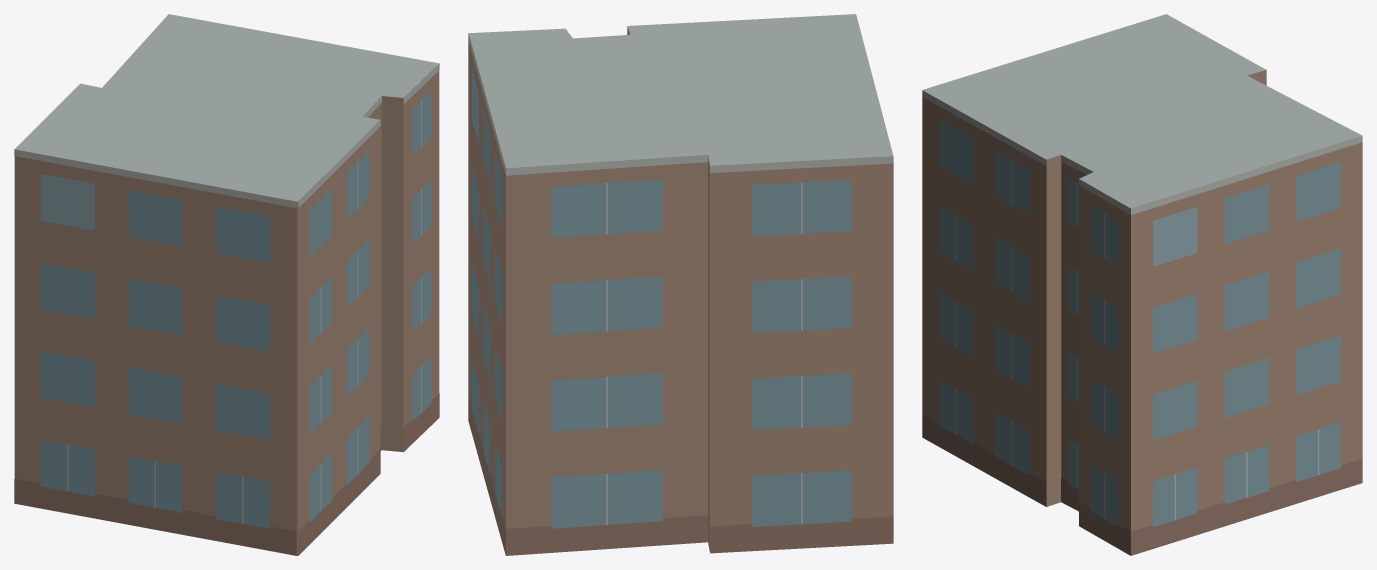
Rendered from survey-upis-32758069.glb.
3 renders of one model, left to right at view 1: azimuth 30°, elevation 25°; view 2: azimuth 150°, elevation 25°; view 3: azimuth 270°, elevation 25°, orthographic. The views are drawn at different scales.
Parts seen in each view (by area): view 1: survey-upis-32758069.tmp; view 2: survey-upis-32758069.tmp; view 3: survey-upis-32758069.tmp.
Boxes of the visible parts, left/top/right/bottom form: survey-upis-32758069.tmp: left=14, top=14, right=439, bottom=555; survey-upis-32758069.tmp: left=468, top=14, right=893, bottom=555; survey-upis-32758069.tmp: left=922, top=14, right=1362, bottom=555.
Bounding box in the file's own units: 15.63 × 13 × 14.95.
